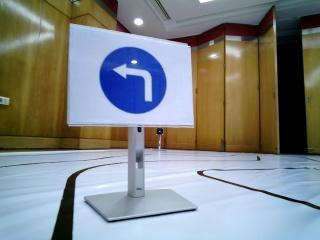left: (77, 40, 186, 126)
